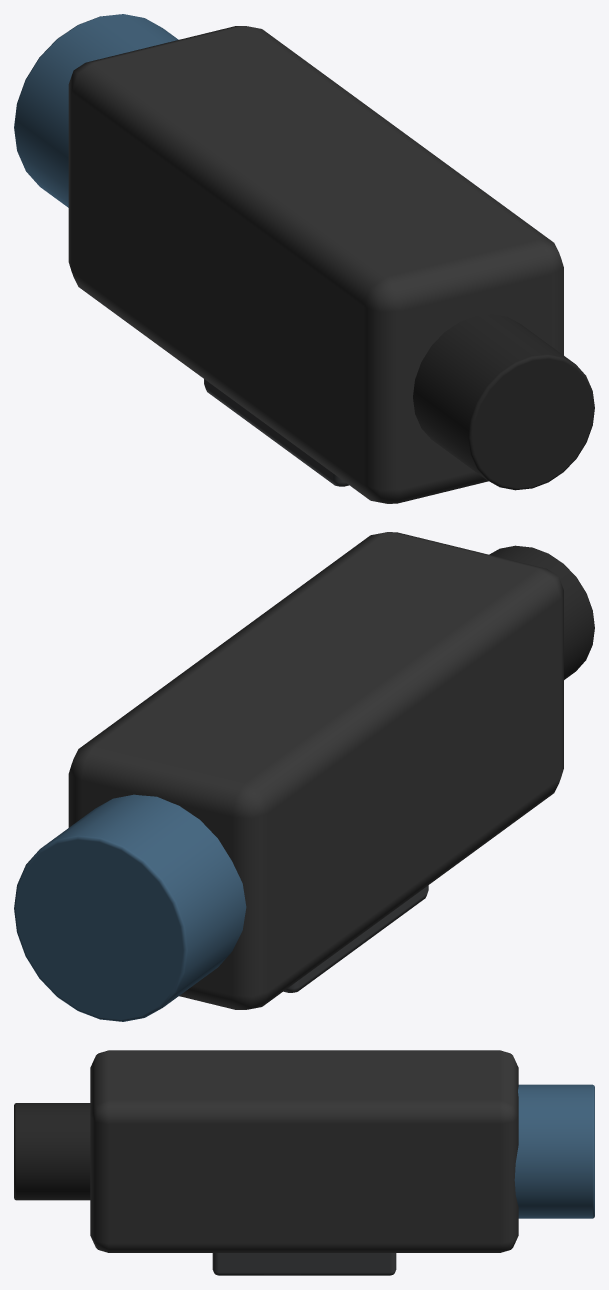
File: thermal.glb
3 renders of one model, top to bottom at view 1: azimuth 30°, elevation 25°; view 2: azimuth 150°, elevation 25°; view 3: azimuth 270°, elevation 25°, orthographic. The views are drawn at different scales.
Parts seen in each view (by area): view 1: Body, Eyepiece, Lens, Mount; view 2: Body, Lens, Eyepiece, Mount; view 3: Body, Lens, Eyepiece, Mount.
Part boxes in pixels (left/top/right/bottom): Body: left=68, top=26, right=563, bottom=503; Eyepiece: left=413, top=314, right=594, bottom=490; Lens: left=14, top=14, right=178, bottom=207; Mount: left=204, top=379, right=348, bottom=486; Body: left=68, top=532, right=563, bottom=1009; Lens: left=14, top=794, right=246, bottom=1021; Eyepiece: left=489, top=545, right=594, bottom=679; Mount: left=283, top=885, right=428, bottom=992; Body: left=90, top=1050, right=518, bottom=1252; Lens: left=514, top=1084, right=594, bottom=1218; Eyepiece: left=14, top=1103, right=90, bottom=1200; Mount: left=212, top=1253, right=396, bottom=1275.
Bounding box in the file's own units: 0.05 × 0.0675 × 0.19.
